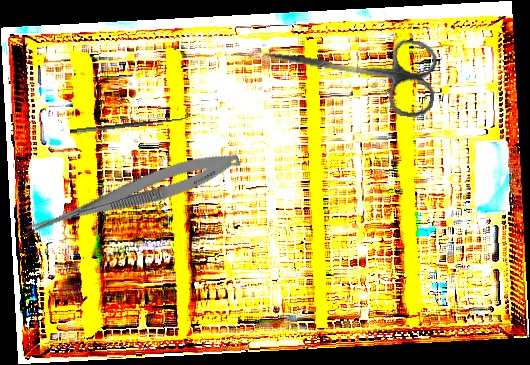Hook Surgical: (68, 107, 190, 136)
Iris Scissors: (257, 20, 442, 120)
Micro Scissor: (16, 142, 244, 251)
